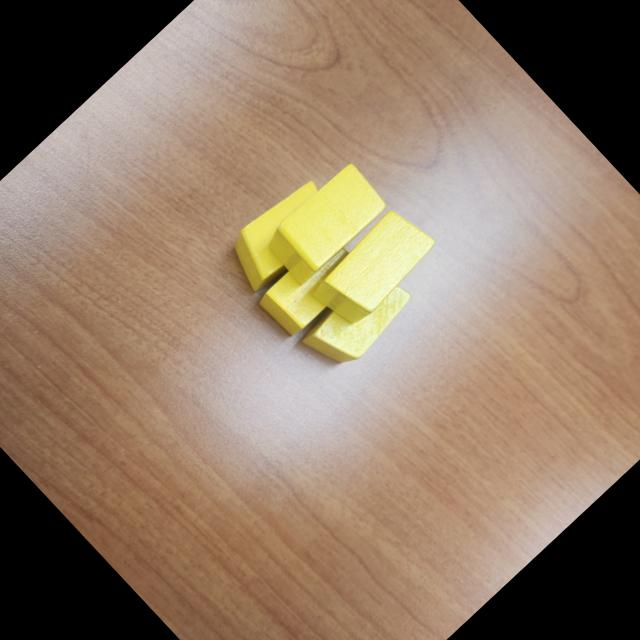yellow: (305, 200, 444, 336), (215, 170, 347, 300), (260, 158, 392, 286), (296, 262, 421, 383), (255, 230, 368, 340)
